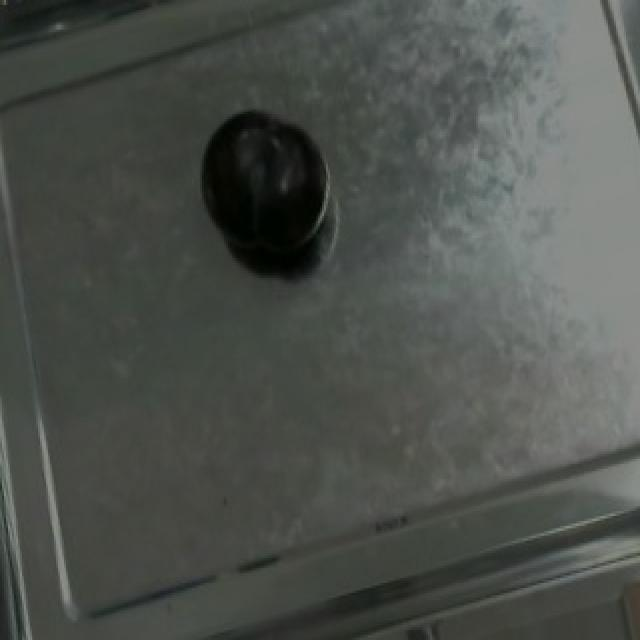Fruit: (184, 97, 334, 273)
